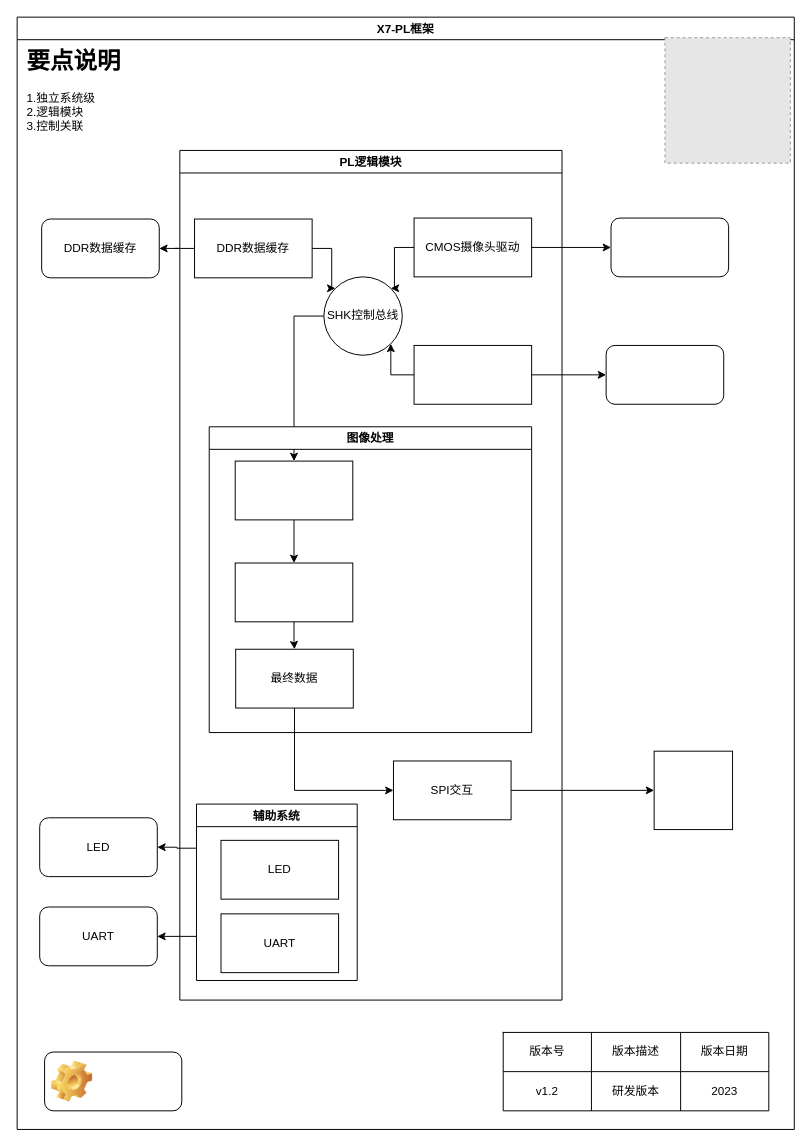
The diagram is 811 pixels wide and 1147 high, and some of its shapes have lost their labels. Grey dashed boxes stand in for pictures. Each missing label, with the centre of its shape:
"CMOS摄像头" belongs at [669,247].
"FpgaPublish" belongs at [113,1081].
"HDMI投影仪" belongs at [664,374].
"HDMI驱动" belongs at [472,374].
"video总线转化" belongs at [293,490].
"ZU2-PL" belongs at [693,790].
"若干图像处理单元" belongs at [293,592].
